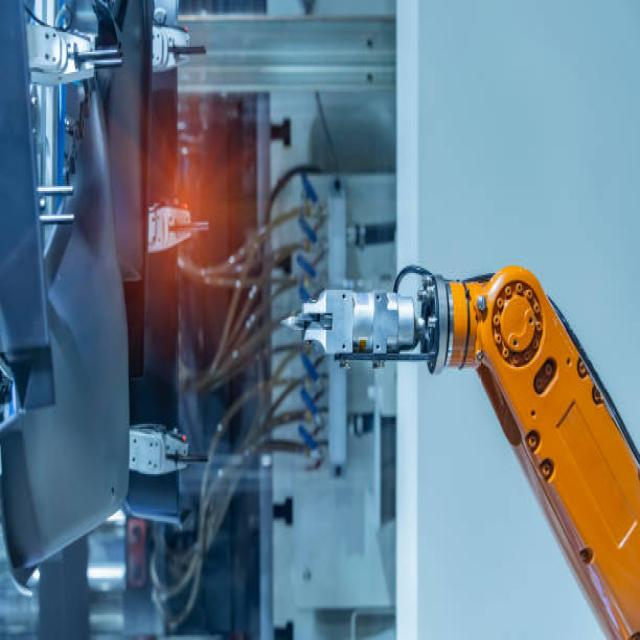Robotic-arm: (277, 253, 640, 640)
